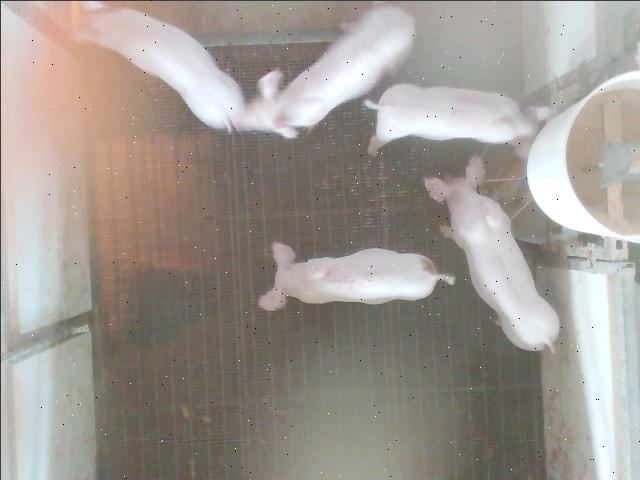pig-4: (364, 83, 548, 158)
pig-5: (258, 242, 454, 310)
